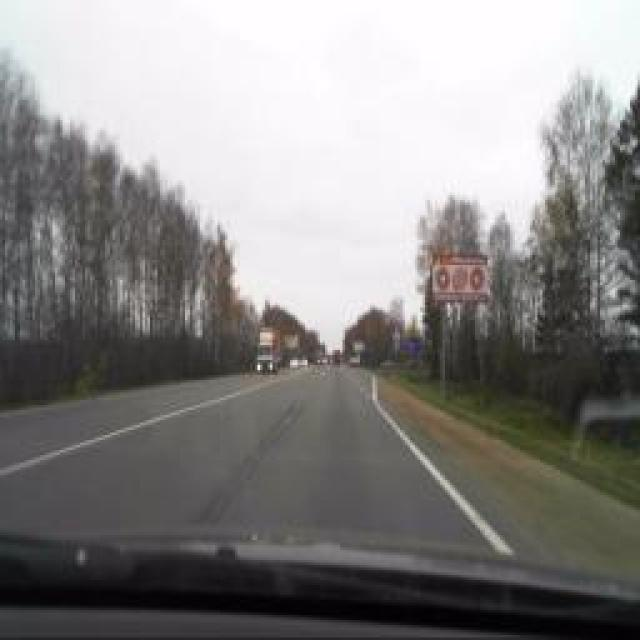sign: (391, 324, 401, 338)
